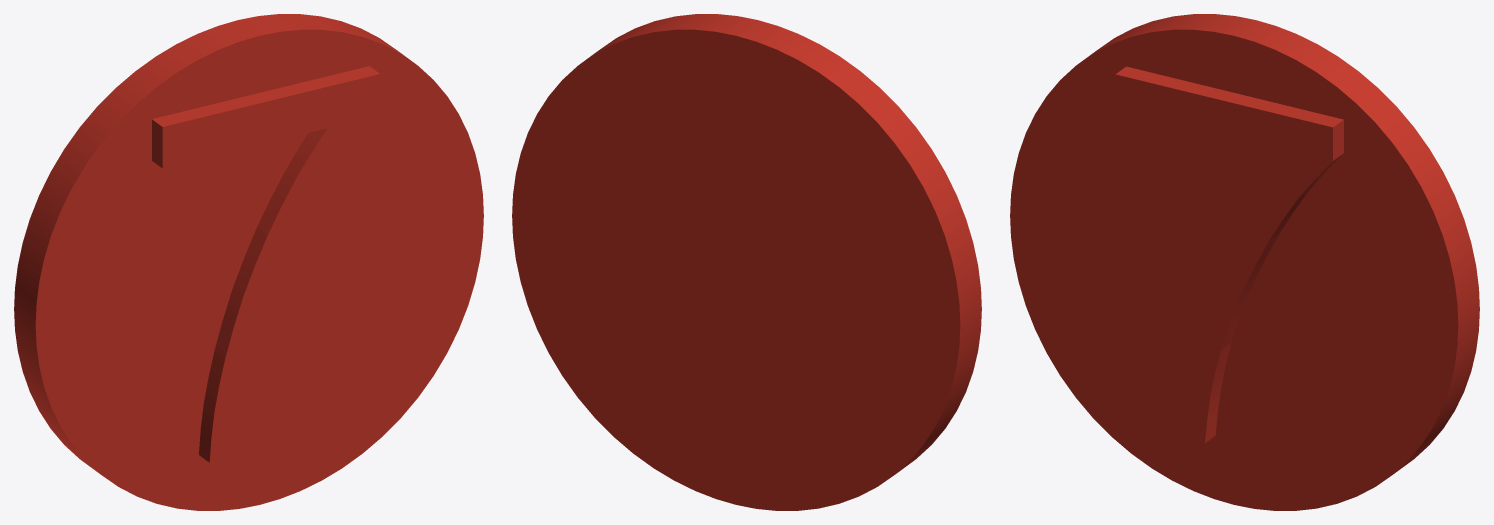
Rendered from disk7.fbx.
The picture shows the model from 3 angles, left to right: view 1: azimuth 30°, elevation 25°; view 2: azimuth 150°, elevation 25°; view 3: azimuth 330°, elevation 25°; orthographic projection.
Parts seen in each view (by area): view 1: Body1; view 2: Body1; view 3: Body1.
Part boxes in pixels (x1,y1,x2,y2): Body1: (14, 14, 483, 510); Body1: (512, 14, 981, 510); Body1: (1010, 14, 1479, 510).
Bounding box in the file's own units: 1200 × 1200 × 150.
